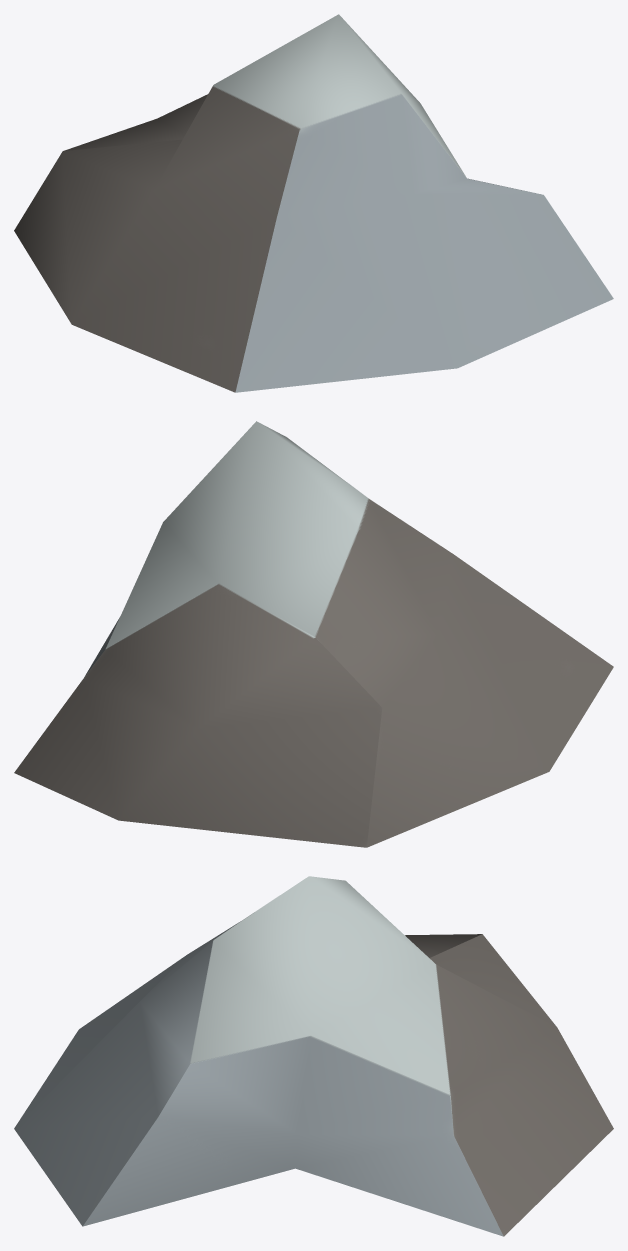
File: stone_01.fbx
3 views of the same model, one above another, from view 1: azimuth 30°, elevation 25°; view 2: azimuth 150°, elevation 25°; view 3: azimuth 270°, elevation 25° (orthographic). The views are drawn at different scales.
Visible parts, largest first — view 1: pCube1; view 2: pCube1; view 3: pCube1.
Boxes of the visible parts, x1=… form: pCube1: x1=14, y1=14, x2=613, y2=392; pCube1: x1=14, y1=421, x2=613, y2=847; pCube1: x1=14, y1=876, x2=613, y2=1236.
Bounding box in the file's own units: 1.45 × 0.8886 × 1.63.
